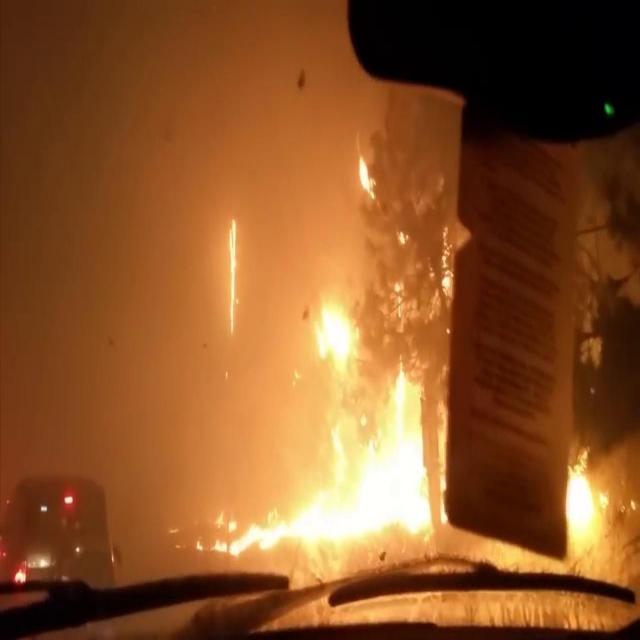fire: (199, 275, 459, 582), (569, 465, 630, 578)
